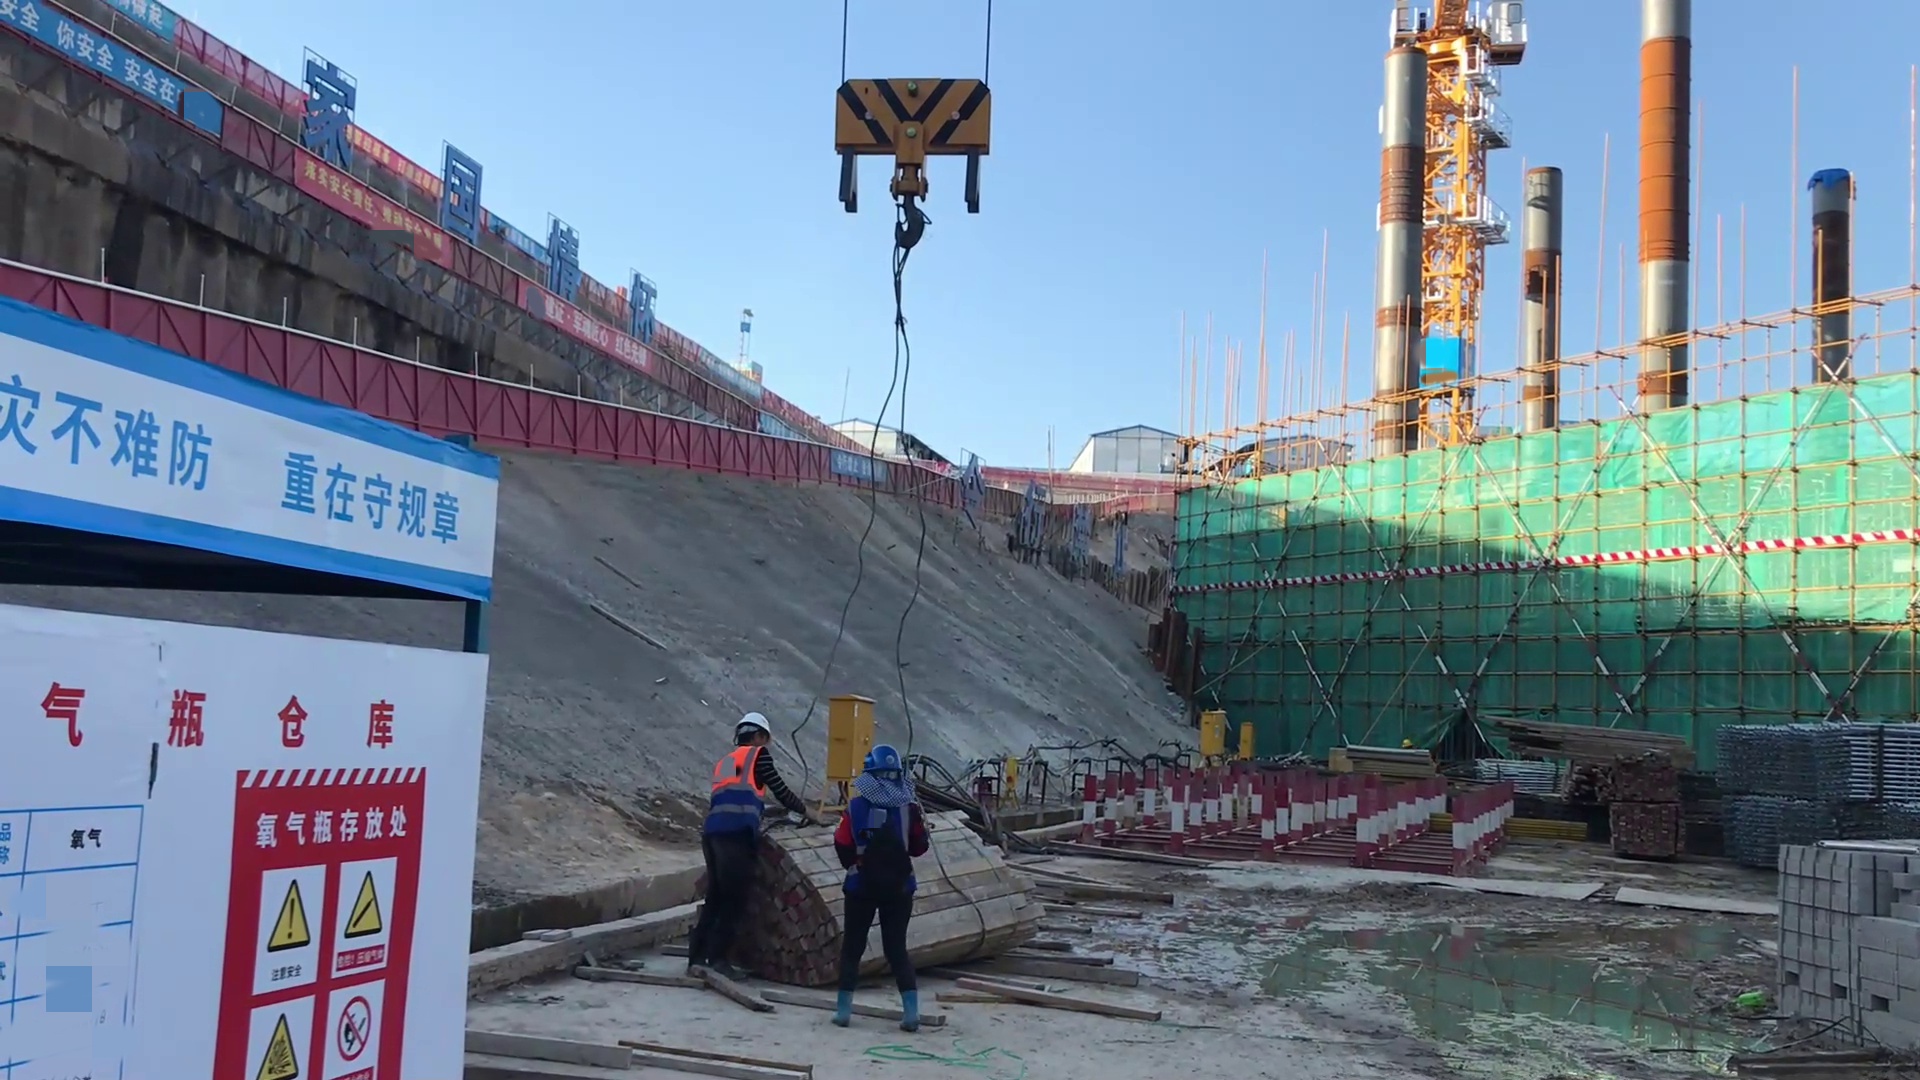brick: (1766, 826, 1920, 1067)
ebox: (828, 687, 892, 781), (1194, 706, 1223, 764), (1230, 716, 1262, 756)
fence: (485, 382, 821, 481)
helmet: (859, 748, 904, 788), (731, 712, 770, 746)
hook: (830, 61, 1003, 223)
person: (677, 700, 808, 982), (834, 736, 930, 1026)
scaffold: (1714, 716, 1920, 829)
slogan: (1, 381, 458, 559), (200, 818, 481, 1080), (37, 1, 199, 133)
vest: (702, 748, 761, 805)
wood: (1489, 704, 1677, 785)
